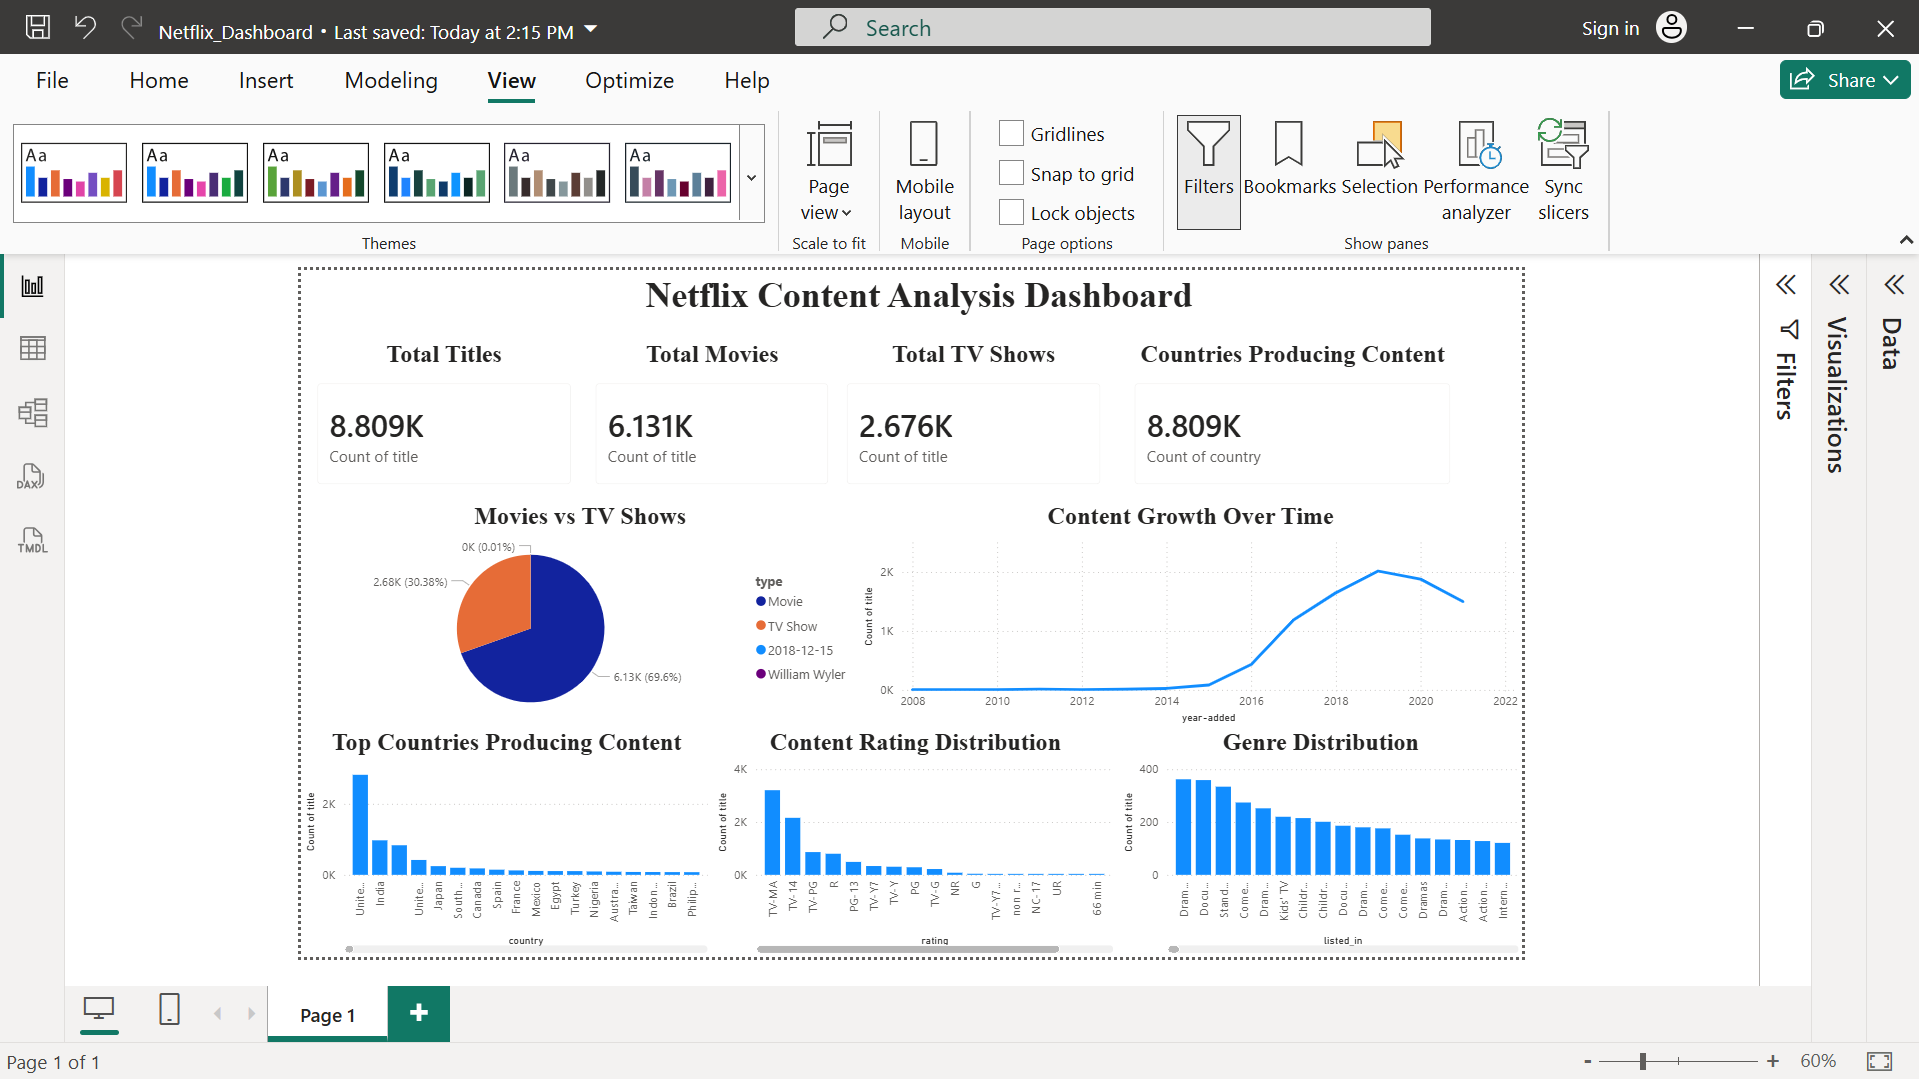

This screenshot's page, from the dashboard's own definition file:
{"tool":"powerbi","page":{"name":"Page 1","canvas":[1280,720],"ordinal":0},"visuals":[{"type":"cardVisual","title":"Total Movies","fields":{"Data":["CountNonNull(netflix_cleaned_data.title)"]},"box":[291.6,74,279,169.1],"z":0},{"type":"cardVisual","title":"Total Titles","fields":{"Data":["CountNonNull(netflix_cleaned_data.title)"]},"box":[0,74,300.1,169.1],"z":1000},{"type":"cardVisual","title":"Total TV Shows","fields":{"Data":["CountNonNull(netflix_cleaned_data.title)"]},"box":[555.8,74,300.1,169.1],"z":2000},{"type":"cardVisual","title":"Countries Producing Content","fields":{"Data":["CountNonNull(netflix_cleaned_data.country)"]},"box":[855.9,74,365.6,169.1],"z":3000},{"type":"pieChart","title":"Movies vs TV Shows","fields":{"Category":["netflix_cleaned_data.type"],"Y":["CountNonNull(netflix_cleaned_data.title)"]},"box":[0,243,585.4,236.7],"z":4000},{"type":"lineChart","title":"Content Growth Over Time","fields":{"Category":["netflix_cleaned_data.year-added"],"Y":["CountNonNull(netflix_cleaned_data.title)"]},"box":[585.4,243,695.3,236.7],"z":5000},{"type":"columnChart","title":"Top Countries Producing Content","fields":{"Category":["netflix_cleaned_data.country"],"Y":["CountNonNull(netflix_cleaned_data.title)"]},"box":[0,479.7,431.1,240.9],"z":6000},{"type":"columnChart","title":"Content Rating Distribution","fields":{"Category":["netflix_cleaned_data.rating"],"Y":["CountNonNull(netflix_cleaned_data.title)"]},"box":[431.1,479.7,424.8,240.9],"z":7000},{"type":"columnChart","title":"Genre Distribution","fields":{"Category":["netflix_cleaned_data.listed_in"],"Y":["CountNonNull(netflix_cleaned_data.title)"]},"box":[855.9,479.7,424.8,240.9],"z":8000},{"type":"textbox","box":[291.6,0,712.2,57.1],"z":8001}]}

Visuals, with their boxes on the page's 1280x720 design canvas (x1, y1, x2, y2). These are canvas units, not pixel positions in the 1919x1079 screenshot, which may show the page scaled, cropped or inside an application window:
"Total Movies" cardVisual: {"x1": 292, "y1": 74, "x2": 571, "y2": 243}
"Total Titles" cardVisual: {"x1": 0, "y1": 74, "x2": 300, "y2": 243}
"Total TV Shows" cardVisual: {"x1": 556, "y1": 74, "x2": 856, "y2": 243}
"Countries Producing Content" cardVisual: {"x1": 856, "y1": 74, "x2": 1222, "y2": 243}
"Movies vs TV Shows" pieChart: {"x1": 0, "y1": 243, "x2": 585, "y2": 480}
"Content Growth Over Time" lineChart: {"x1": 585, "y1": 243, "x2": 1281, "y2": 480}
"Top Countries Producing Content" columnChart: {"x1": 0, "y1": 480, "x2": 431, "y2": 721}
"Content Rating Distribution" columnChart: {"x1": 431, "y1": 480, "x2": 856, "y2": 721}
"Genre Distribution" columnChart: {"x1": 856, "y1": 480, "x2": 1281, "y2": 721}
textbox: {"x1": 292, "y1": 0, "x2": 1004, "y2": 57}
